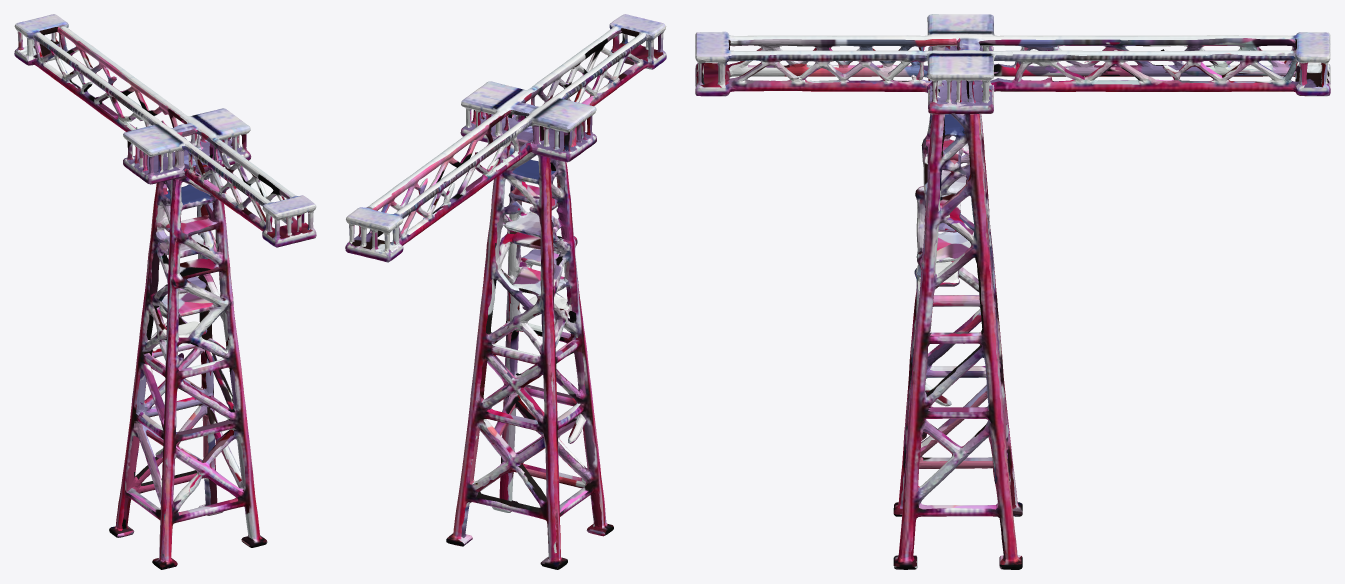
File: hunyuan_access_gantry_textured.glb
3 renders of one model, left to right at view 1: azimuth 30°, elevation 25°; view 2: azimuth 150°, elevation 25°; view 3: azimuth 270°, elevation 25°, orthographic. The views are drawn at different scales.
Parts seen in each view (by area): view 1: tmpsxt23y1q.ply; view 2: tmpsxt23y1q.ply; view 3: tmpsxt23y1q.ply.
Boxes of the visible parts, bbox=[...] form: tmpsxt23y1q.ply: bbox=[14, 14, 316, 569]; tmpsxt23y1q.ply: bbox=[345, 14, 666, 569]; tmpsxt23y1q.ply: bbox=[695, 14, 1330, 569].
Size of the model in its own units: 0.472 by 1.72 by 1.99.
Materials: 1 (1 with a texture image).
